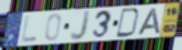0: (43, 13, 62, 43)
3: (91, 8, 115, 40)
A: (136, 8, 162, 37)
D: (115, 8, 142, 39)
J: (69, 9, 92, 42)
L: (20, 15, 38, 44)
